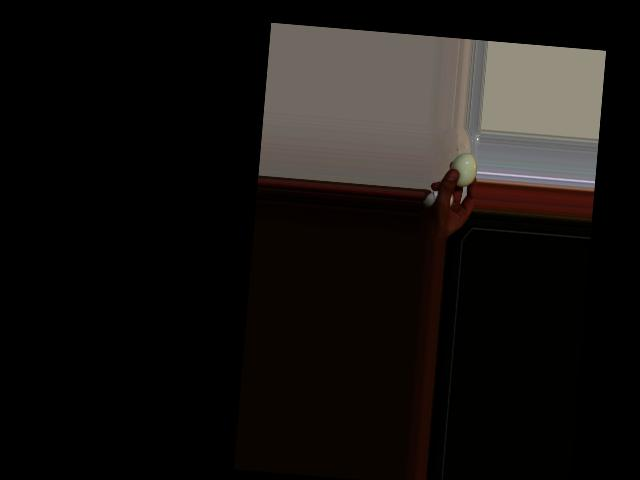egg: (448, 152, 478, 187)
